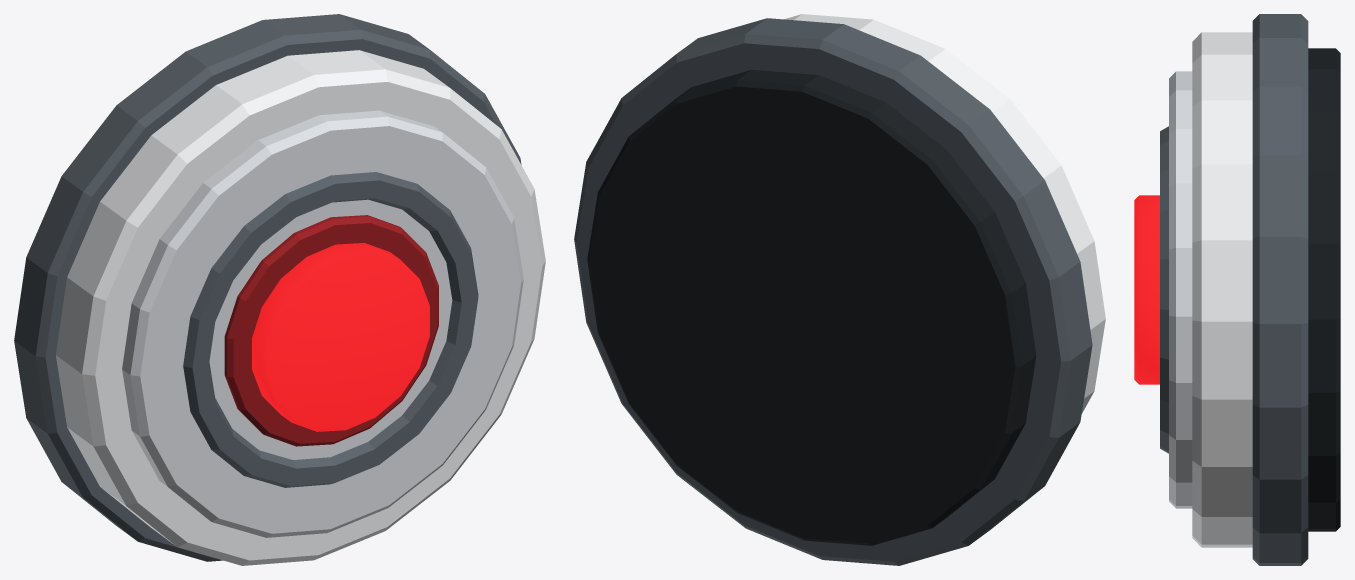
File: LocateTag.glb
The picture shows the model from 3 angles, left to right: view 1: azimuth 30°, elevation 25°; view 2: azimuth 150°, elevation 25°; view 3: azimuth 270°, elevation 25°; orthographic projection. The views are drawn at different scales.
Parts seen in each view (by area): view 1: FTF_Prop_VehicleLocatorTag_White_v1_Static, SignalLight; view 2: FTF_Prop_VehicleLocatorTag_White_v1_Static; view 3: FTF_Prop_VehicleLocatorTag_White_v1_Static, SignalLight.
Boxes of the visible parts, x1,y1,x2,y2 form: FTF_Prop_VehicleLocatorTag_White_v1_Static: [14, 14, 545, 565]; SignalLight: [252, 243, 429, 431]; FTF_Prop_VehicleLocatorTag_White_v1_Static: [574, 14, 1105, 565]; FTF_Prop_VehicleLocatorTag_White_v1_Static: [1160, 14, 1340, 565]; SignalLight: [1134, 195, 1159, 384].
Bounding box in the file's own units: 0.24 × 0.24 × 0.089.
